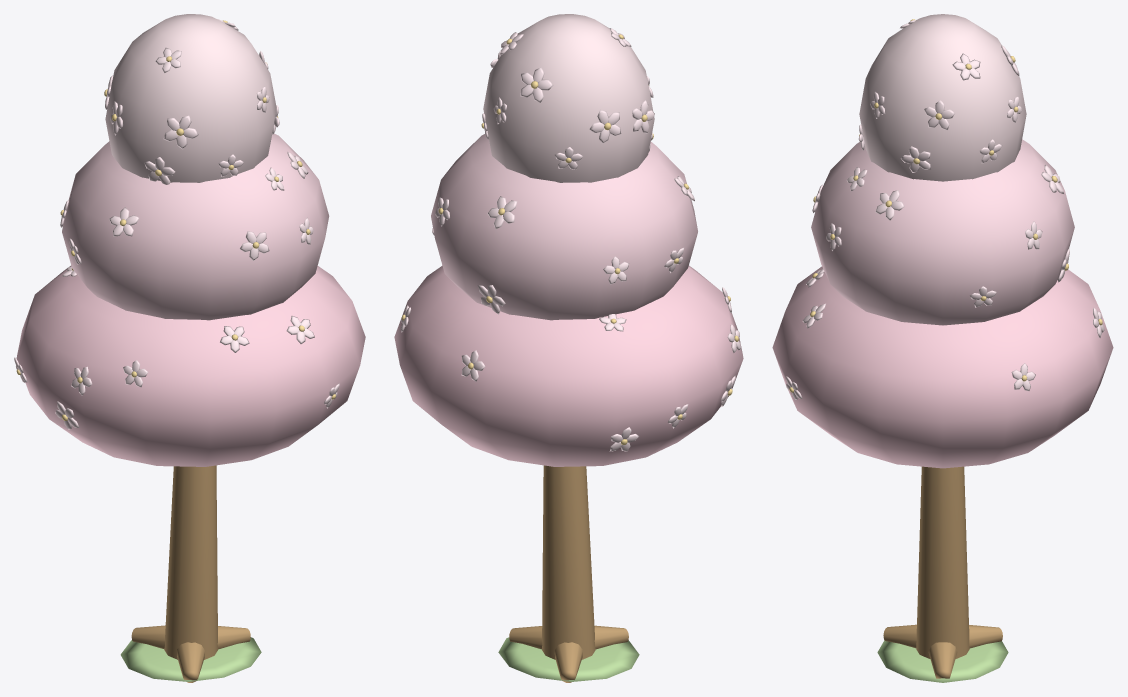
File: tree_v3_spring.glb
3 renders of one model, left to right at view 1: azimuth 30°, elevation 25°; view 2: azimuth 150°, elevation 25°; view 3: azimuth 270°, elevation 25°, orthographic.
Bounding box in the file's own units: 2.75 × 5.45 × 2.65.
